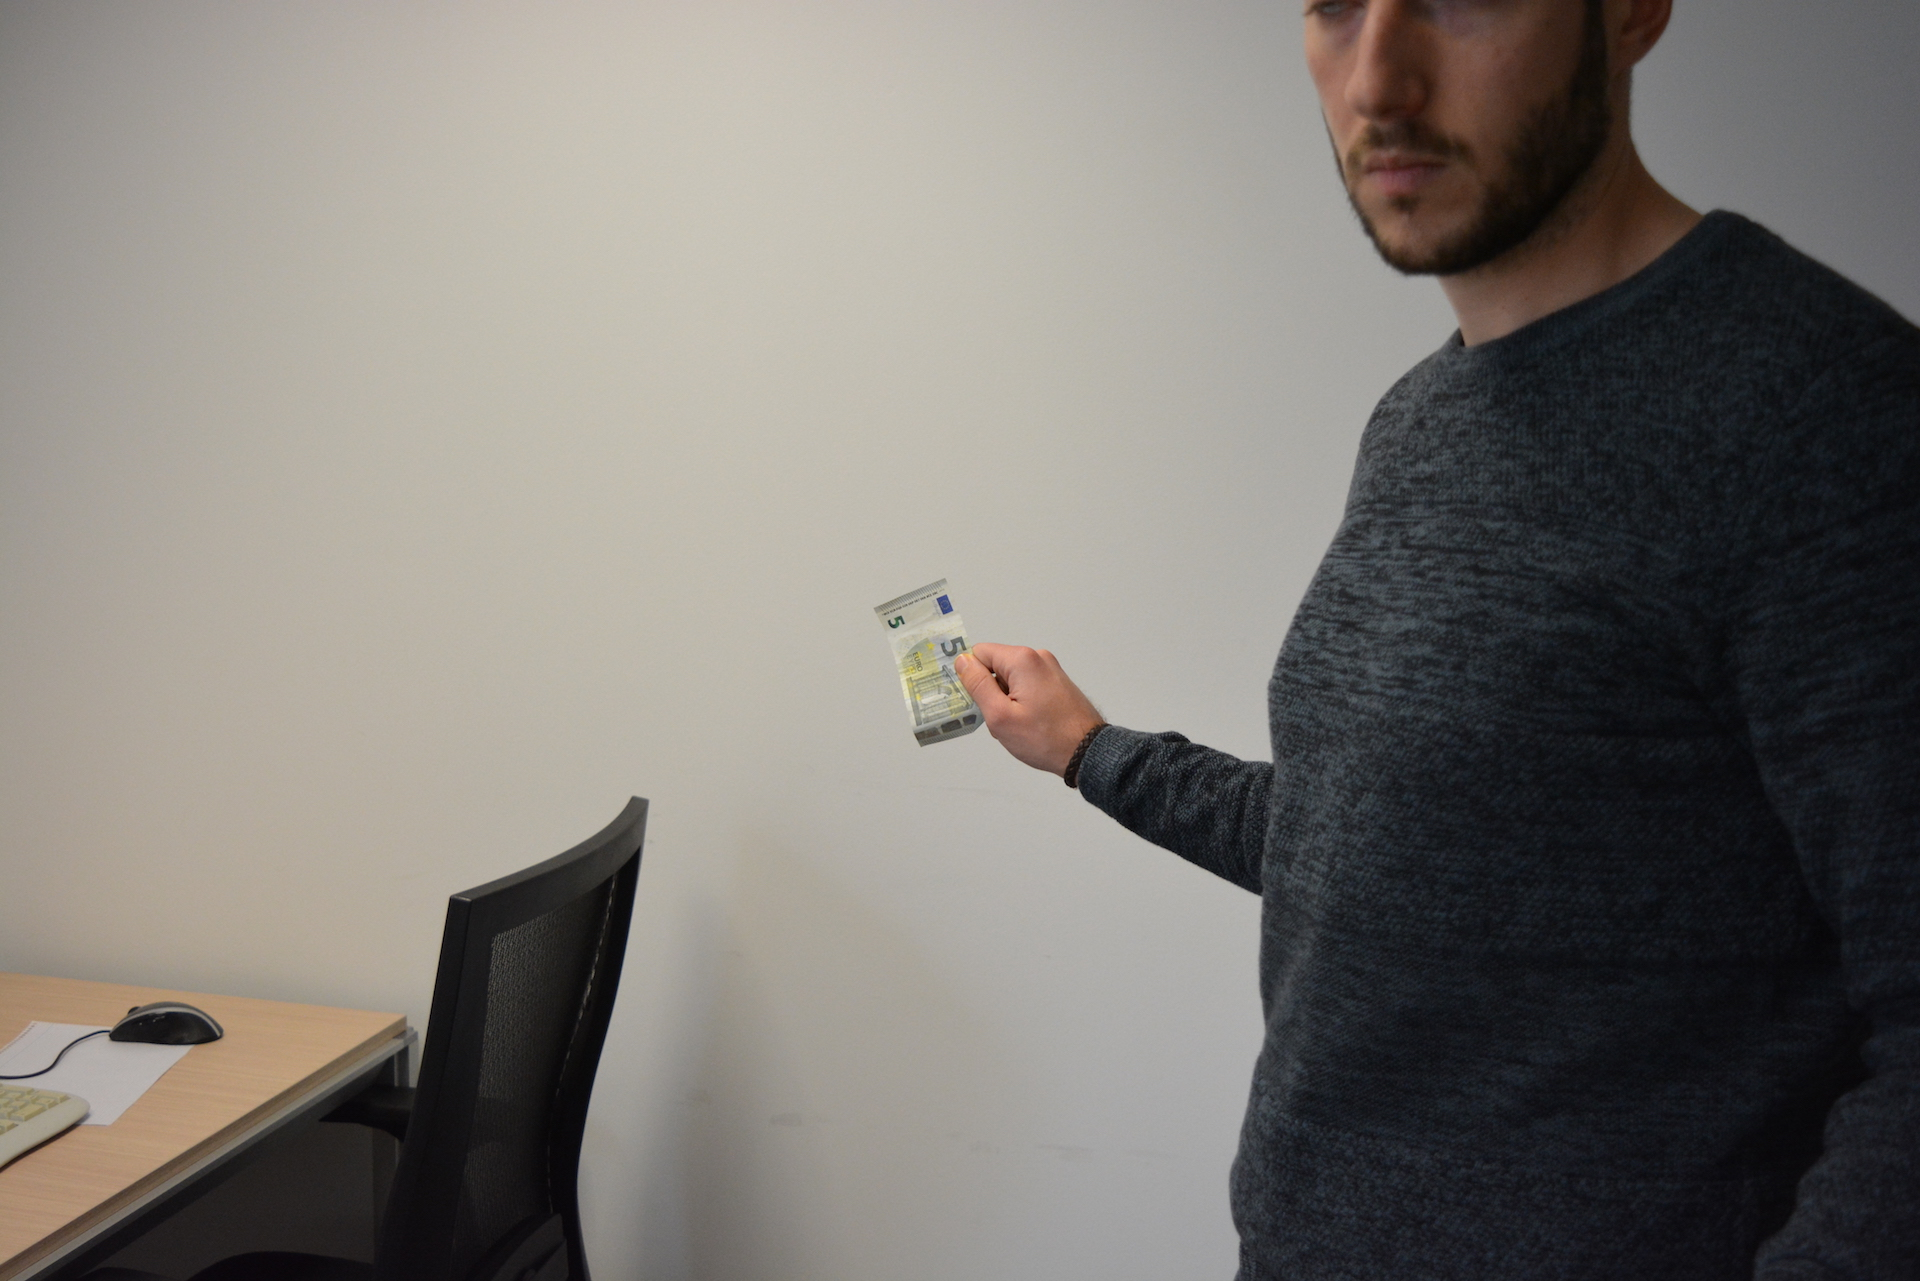billete: (874, 578, 988, 748)
